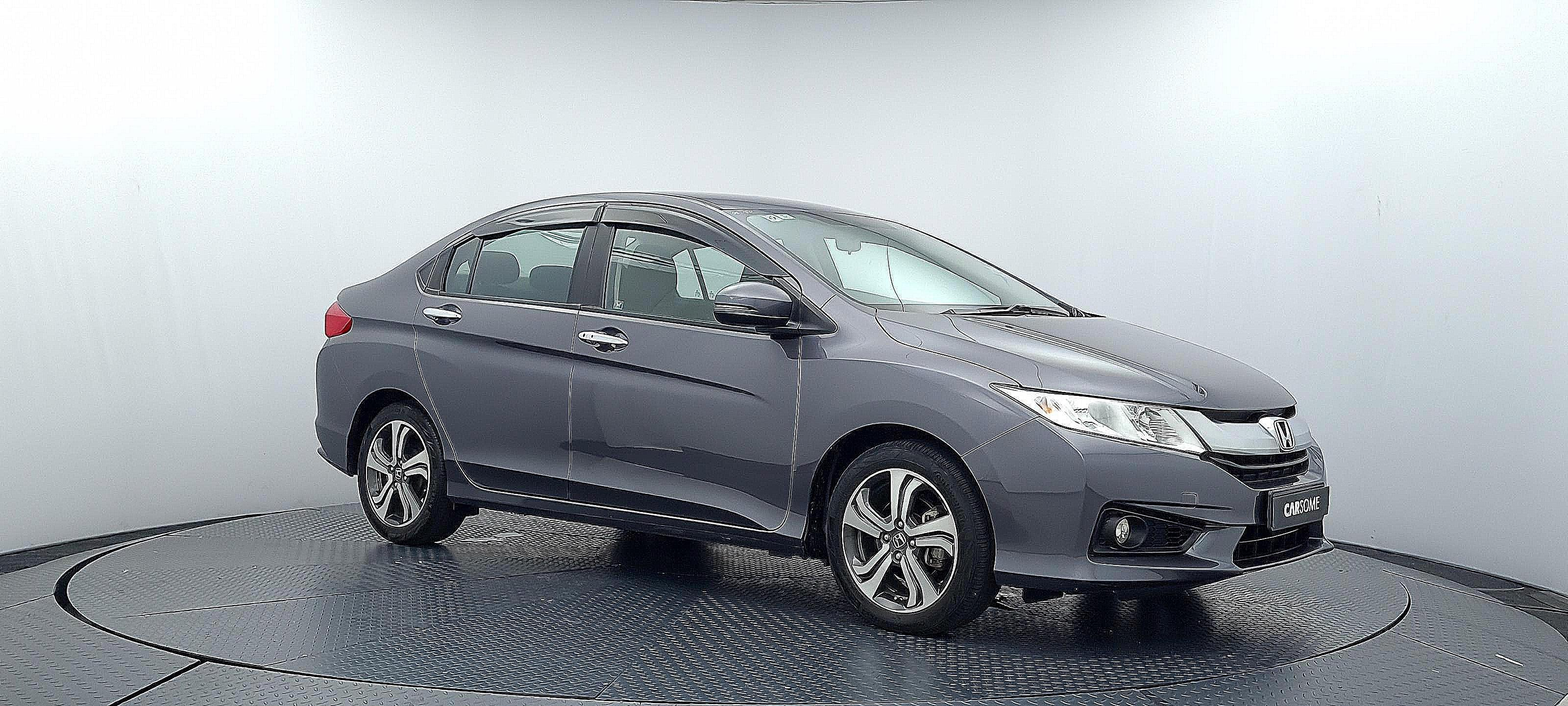Car hood: (869, 304, 1299, 417)
Driver-s door - -F-R-: (567, 192, 800, 539)
Fender - -F-R-: (791, 289, 1044, 550)
Fender - -R-R-: (333, 271, 459, 507)
Front bumper: (961, 416, 1348, 601)
Headlight - -R-: (986, 380, 1212, 461)
Passenger-s door - -R-R-: (412, 200, 578, 512)
Rear bumper: (304, 341, 368, 488)
Rear light - -R-: (315, 289, 369, 355)
Side bumper - -R-: (437, 452, 828, 565)
Side mirror - -R-: (705, 270, 804, 345)
